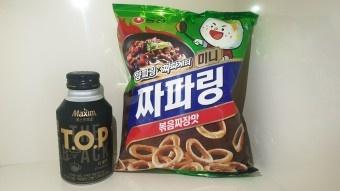snack: (111, 2, 260, 178)
